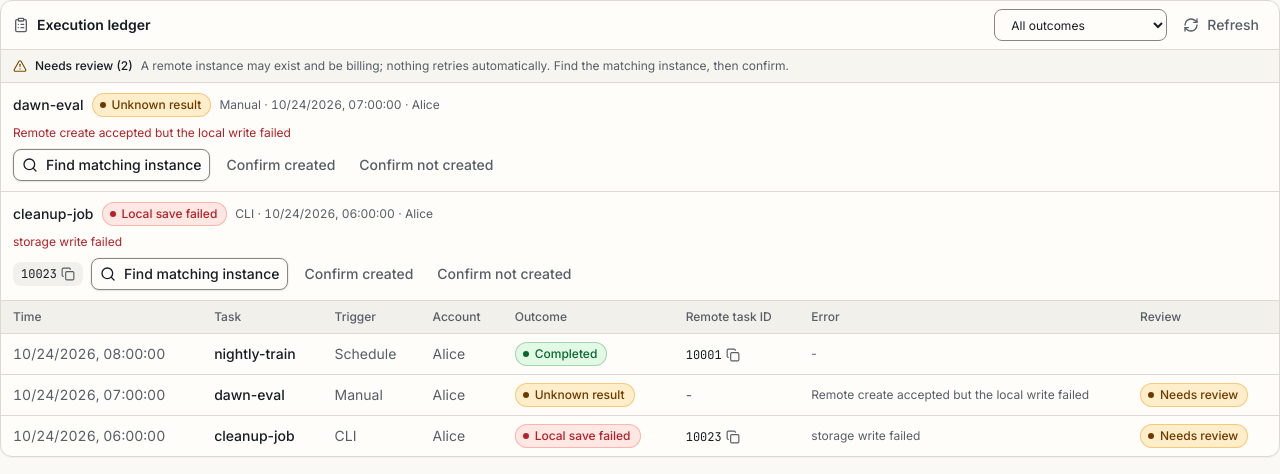
ExecutionLedgerPanel › filters the history list by outcome
The image size is (1280, 474).
Expected: the text "nightly-train" is shown, [202, 334, 322, 374]
Select "Unknown result" in the dropdown named "Filter by outcome": (1081, 25) [994, 9, 1167, 41]
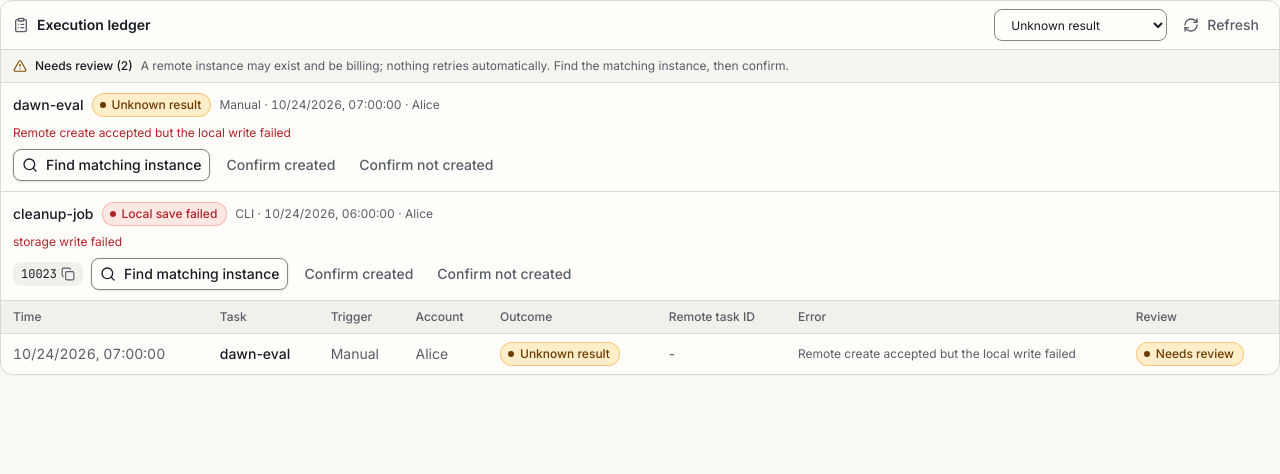
Expected: the text "dawn-eval" is shown, [208, 334, 319, 374]
Expected: the text "nightly-train" is gone
